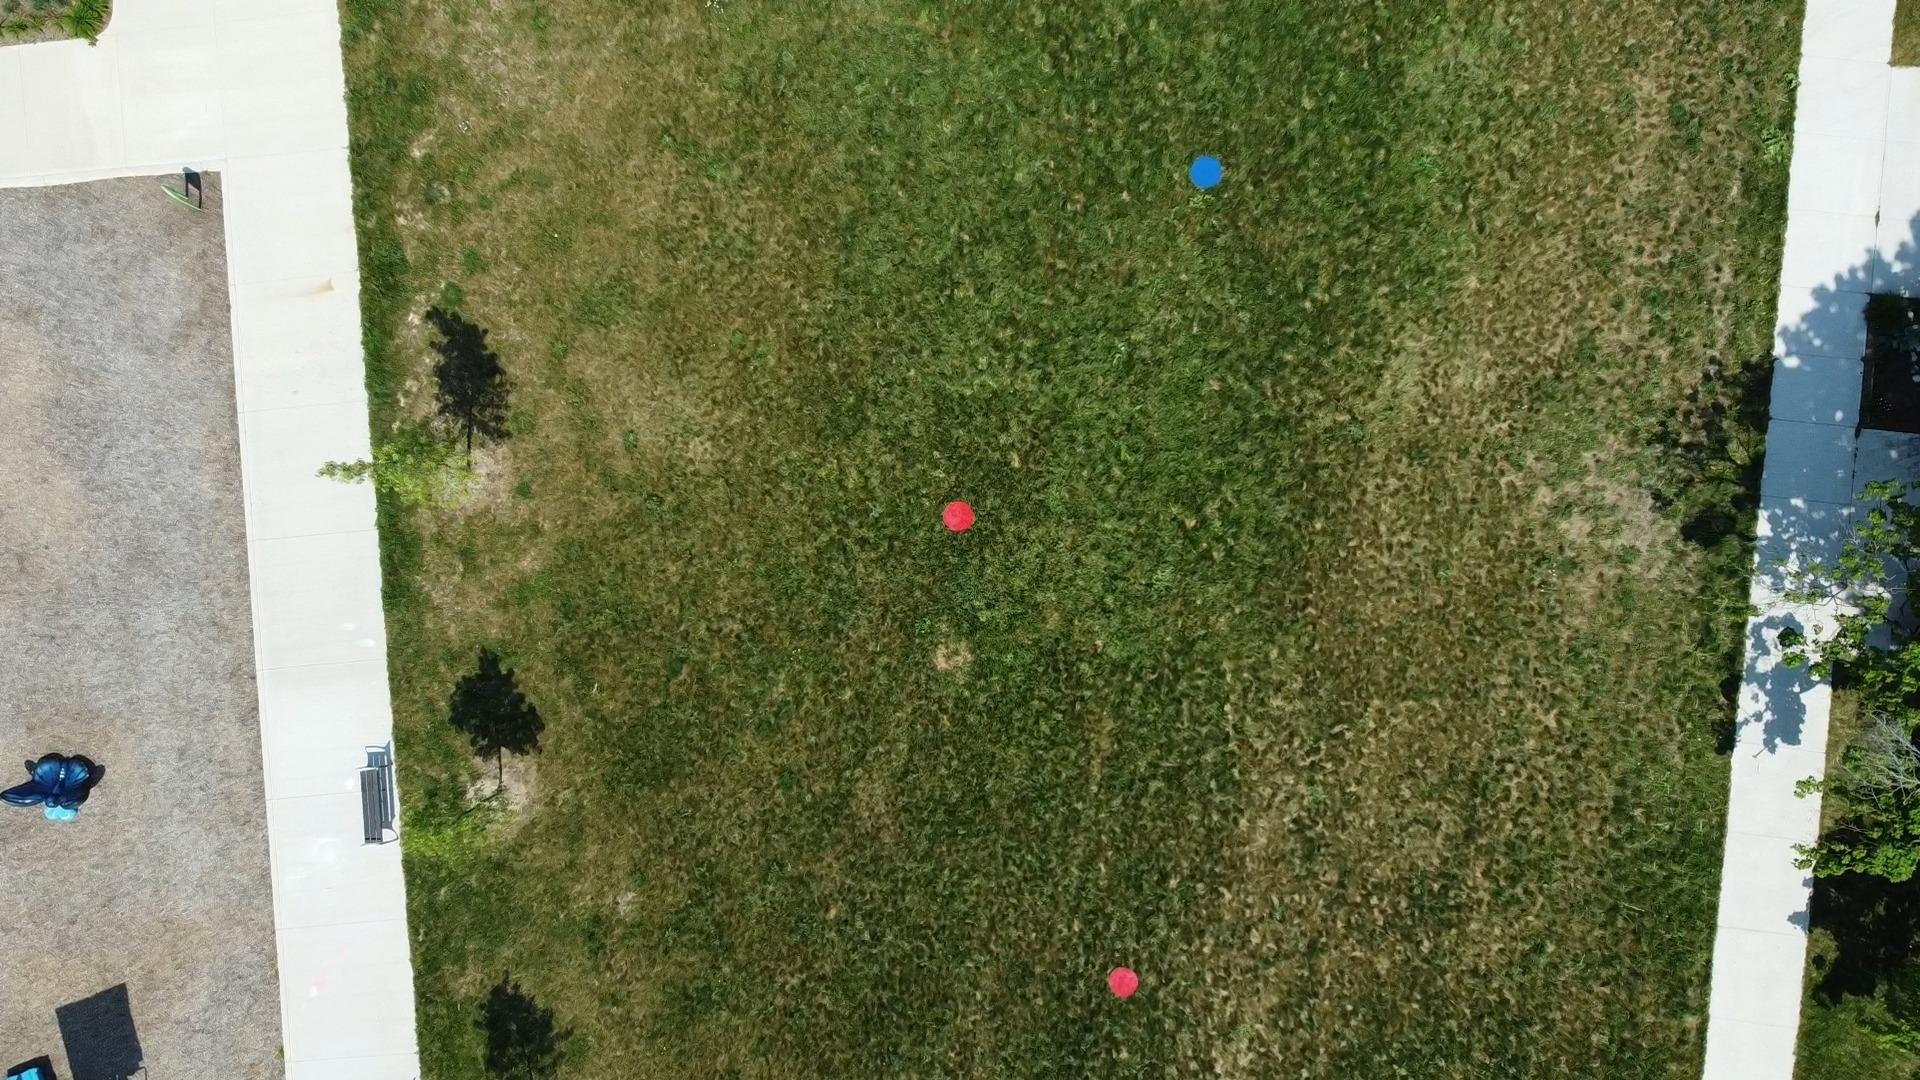Blue: (1188, 156, 1224, 190)
Red: (940, 500, 976, 534), (1108, 964, 1141, 1000)
